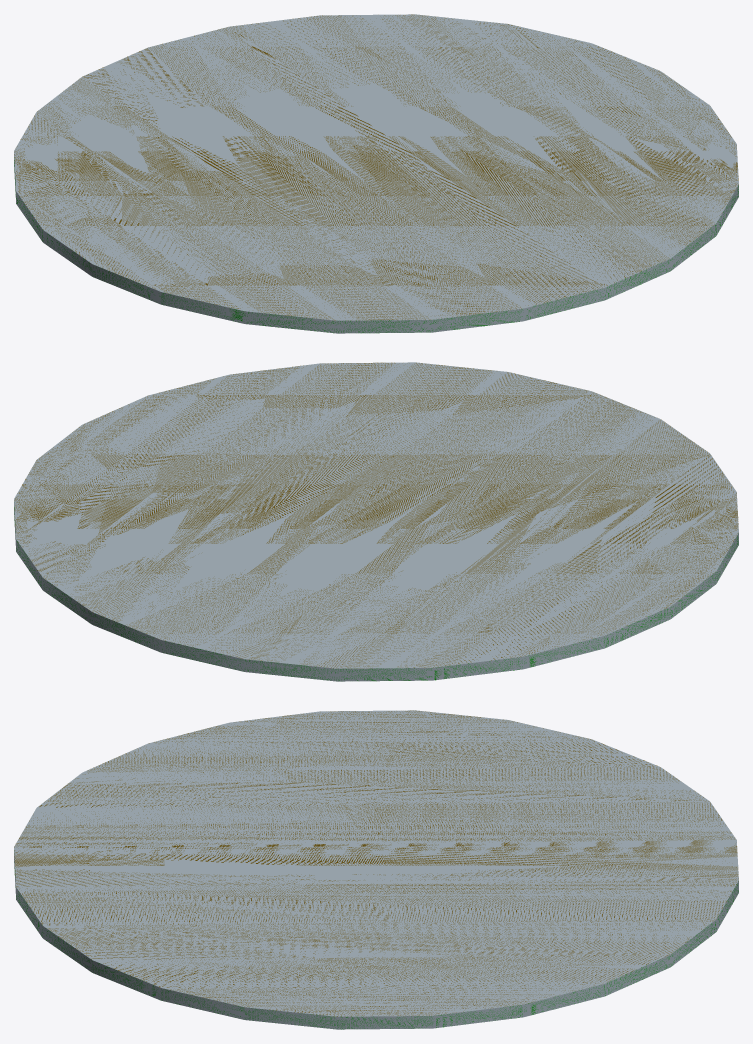
The model's file is cricket.fbx.
3 renders of one model, top to bottom at view 1: azimuth 30°, elevation 25°; view 2: azimuth 150°, elevation 25°; view 3: azimuth 270°, elevation 25°, orthographic.
Visible parts, largest first — view 1: Model; view 2: Model; view 3: Model.
Part boxes in pixels (x1,y1,x2,y2): Model: (14, 14, 738, 333); Model: (14, 362, 738, 681); Model: (14, 710, 738, 1029).
Bounding box in the file's own units: 8407 × 163 × 8407.
